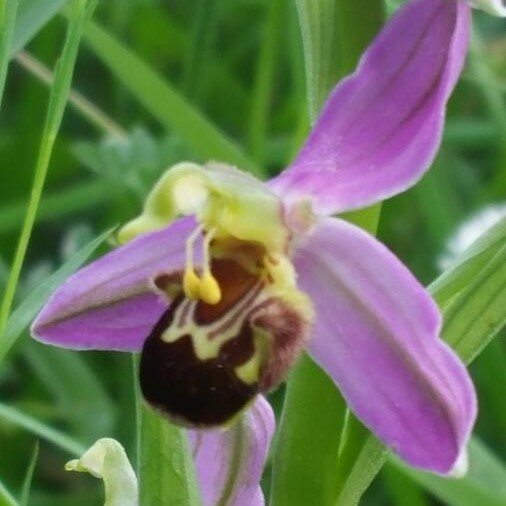obstacle: (50, 19, 484, 487)
